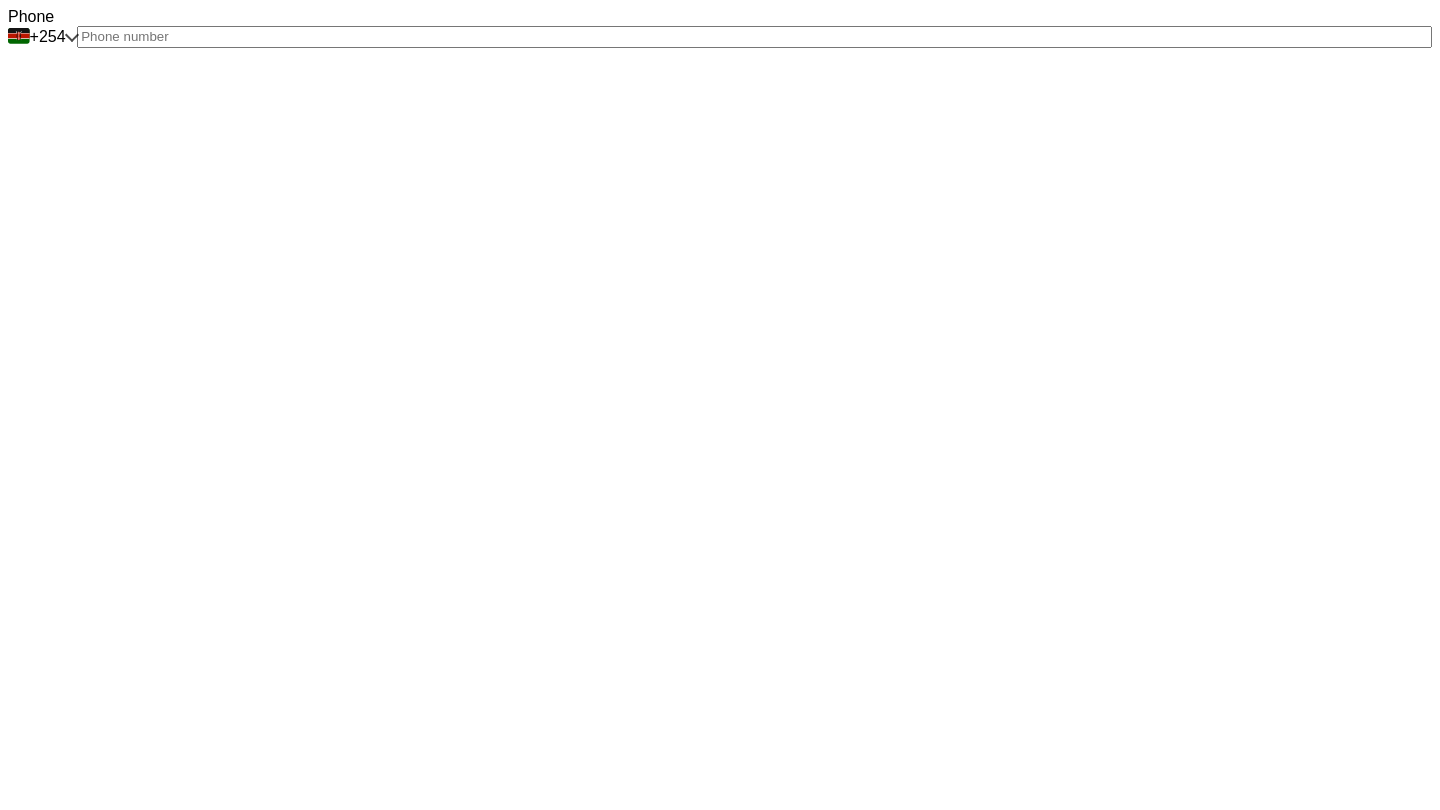
PhoneInput › works from the keyboard: arrows move, Enter chooses, and focus returns to the number
Press Enter
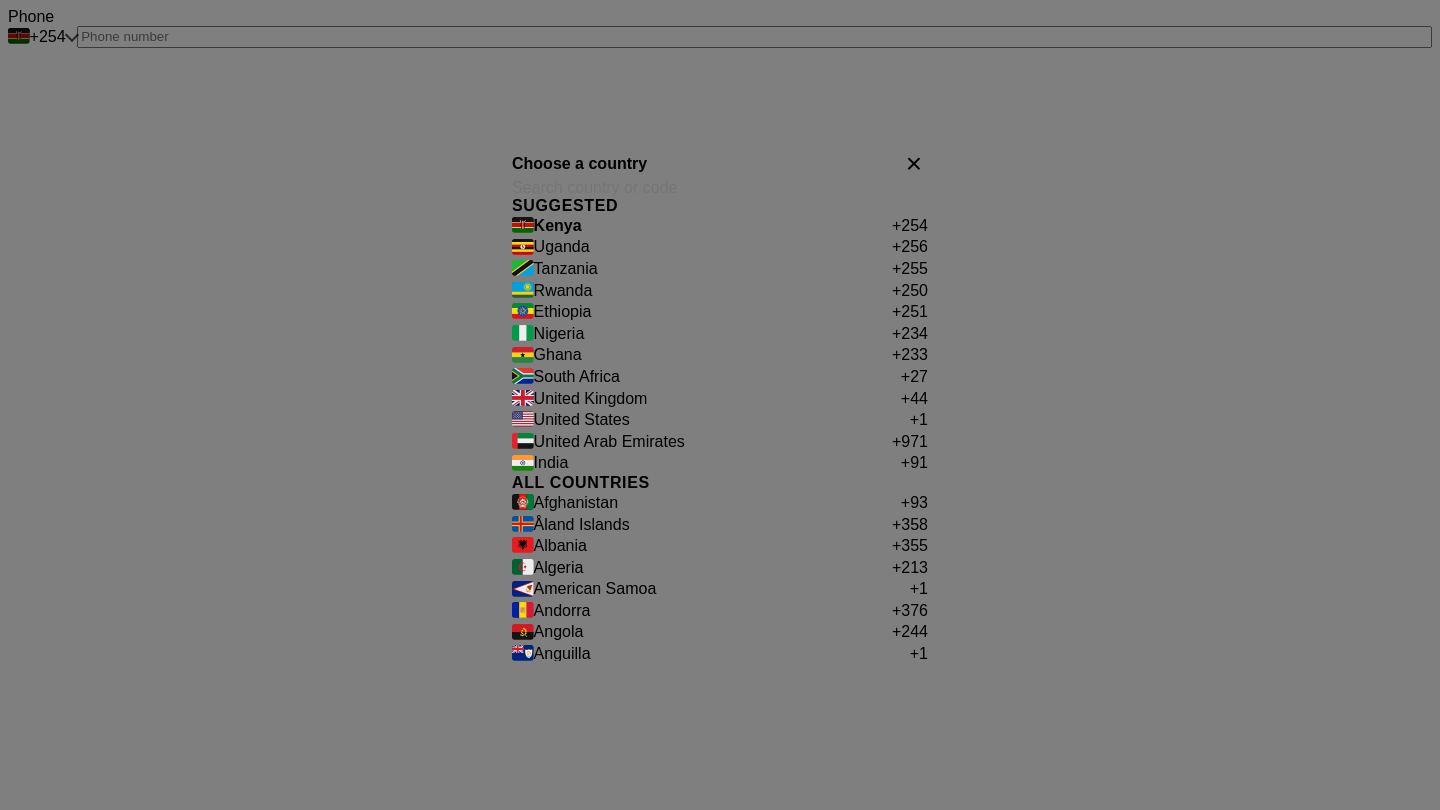
Type "rwanda" into the dropdown.
click(720, 188); type("rwanda")  # box [512,179,928,197]
Then press Enter
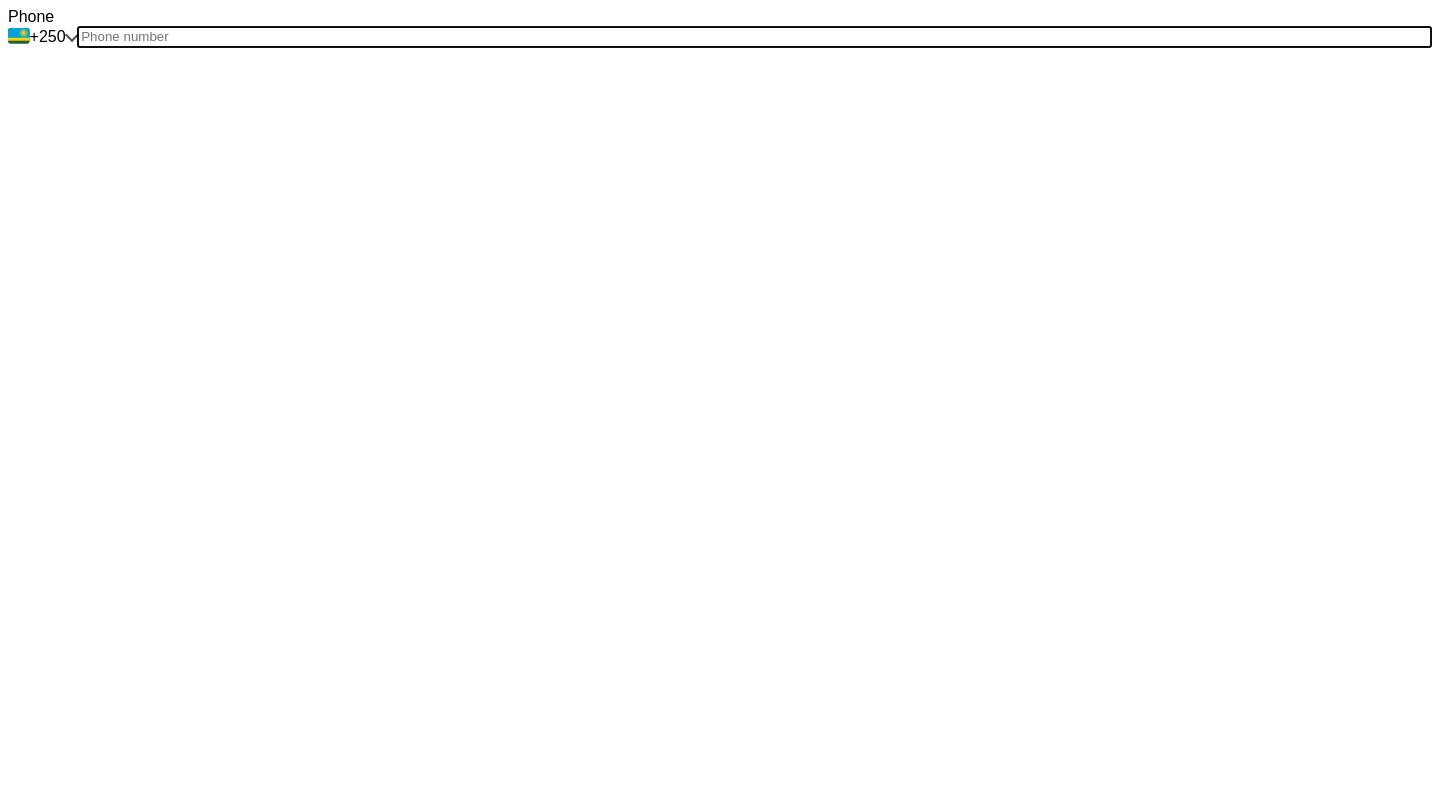
Expected: the button named "country code" shows "+250"
Click the button named "country code".
click(43, 37)  # box [8,26,77,48]
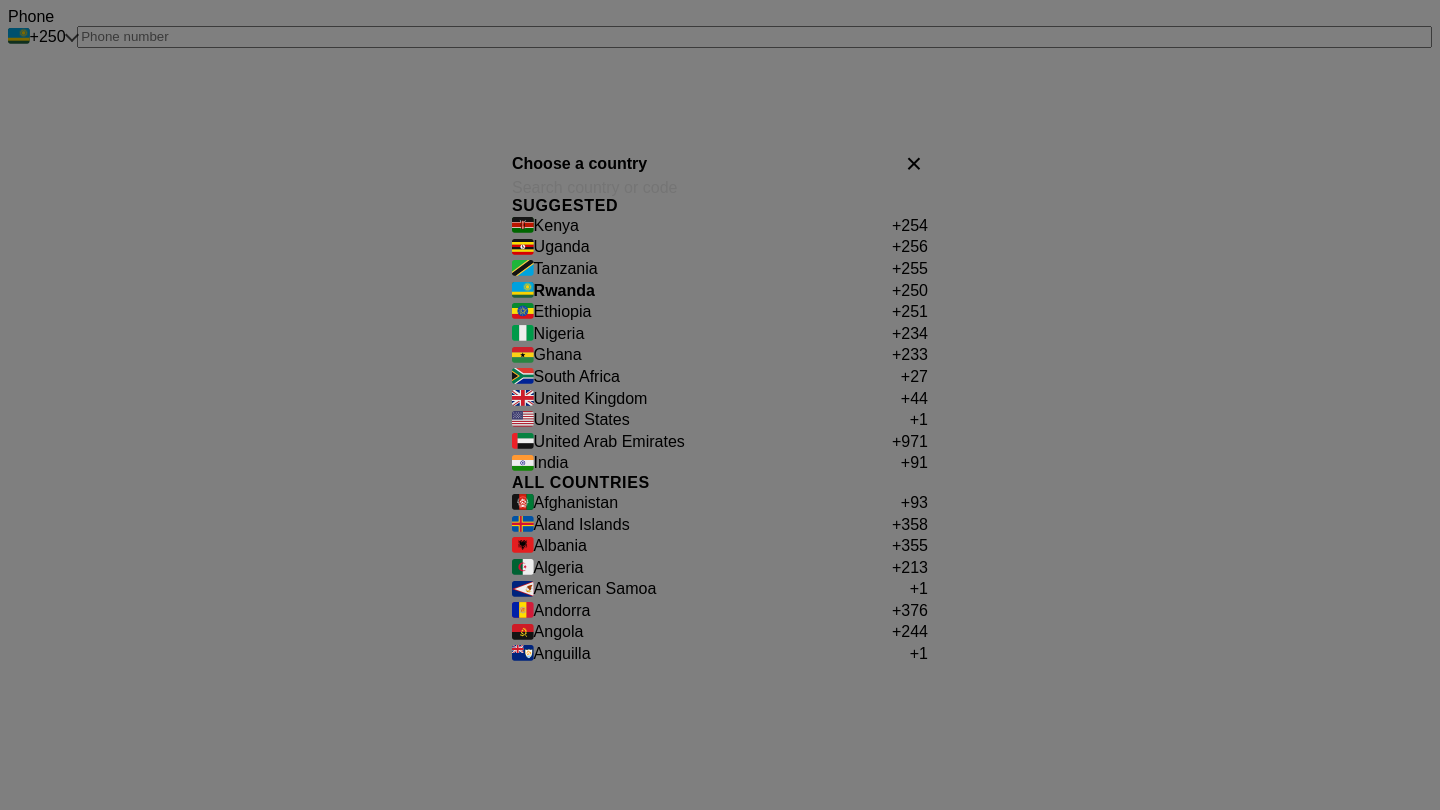
Type "tanz" into the dropdown.
click(720, 188); type("tanz")  # box [512,179,928,197]
Then press Arrowdown, Arrowup, Enter
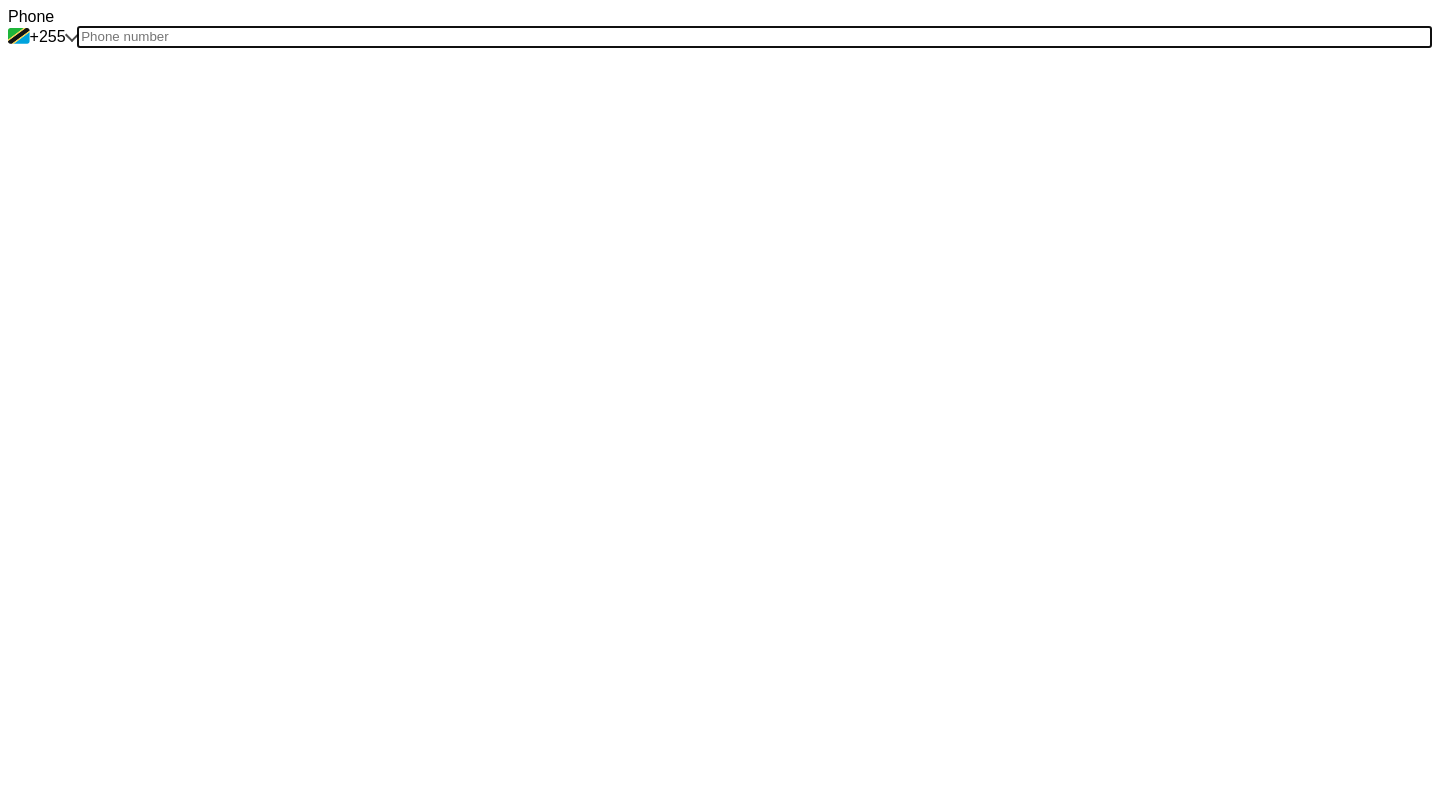
Expected: the button named "country code" shows "+255", [8,26,77,48]
